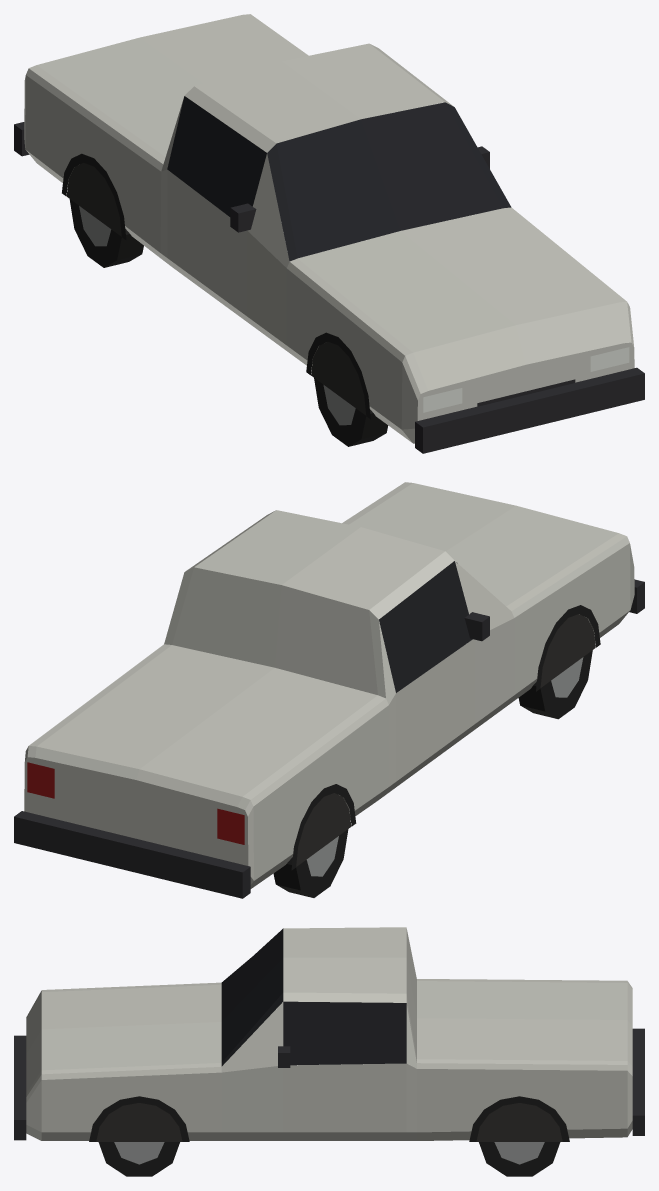
Rendered from town_pickup_white 2.gltf.
The picture shows the model from 3 angles, top to bottom: view 1: azimuth 30°, elevation 25°; view 2: azimuth 150°, elevation 25°; view 3: azimuth 270°, elevation 25°; orthographic projection. The views are drawn at different scales.
Visible parts, largest first — view 1: TownPickupWhite_Body, TownPickupWhite_Glass, TownPickupWhite_Bumpers, TownPickupWhite_Arches, TownPickupWhite_Tyres, TownPickupWhite_Rims, TownPickupWhite_Headlights, TownPickupWhite_Mirrors; view 2: TownPickupWhite_Body, TownPickupWhite_Bumpers, TownPickupWhite_Glass, TownPickupWhite_Arches, TownPickupWhite_Tyres, TownPickupWhite_Taillights, TownPickupWhite_Rims, TownPickupWhite_Mirrors; view 3: TownPickupWhite_Body, TownPickupWhite_Glass, TownPickupWhite_Arches, TownPickupWhite_Tyres, TownPickupWhite_Bumpers, TownPickupWhite_Rims.
Boxes of the visible parts, bbox=[...] form: TownPickupWhite_Body: bbox=[24, 14, 634, 443]; TownPickupWhite_Glass: bbox=[167, 96, 511, 261]; TownPickupWhite_Bumpers: bbox=[14, 122, 644, 453]; TownPickupWhite_Arches: bbox=[62, 153, 370, 419]; TownPickupWhite_Tyres: bbox=[69, 199, 388, 446]; TownPickupWhite_Rims: bbox=[79, 206, 355, 425]; TownPickupWhite_Headlights: bbox=[423, 347, 629, 412]; TownPickupWhite_Mirrors: bbox=[230, 146, 489, 232]; TownPickupWhite_Body: bbox=[24, 482, 634, 888]; TownPickupWhite_Bumpers: bbox=[14, 579, 644, 898]; TownPickupWhite_Glass: bbox=[379, 561, 472, 692]; TownPickupWhite_Arches: bbox=[291, 605, 600, 870]; TownPickupWhite_Tyres: bbox=[273, 650, 592, 897]; TownPickupWhite_Taillights: bbox=[27, 762, 244, 844]; TownPickupWhite_Rims: bbox=[306, 657, 583, 876]; TownPickupWhite_Mirrors: bbox=[464, 612, 489, 641]; TownPickupWhite_Body: bbox=[26, 927, 632, 1140]; TownPickupWhite_Glass: bbox=[221, 928, 406, 1066]; TownPickupWhite_Arches: bbox=[89, 1096, 569, 1141]; TownPickupWhite_Tyres: bbox=[98, 1142, 560, 1176]; TownPickupWhite_Bumpers: bbox=[14, 1028, 644, 1140]; TownPickupWhite_Rims: bbox=[114, 1142, 544, 1164].
Size of what is drawn, in the model's own units: 2.2 by 1.89 by 6.14.
Materials: 1 (1 with a texture image).
